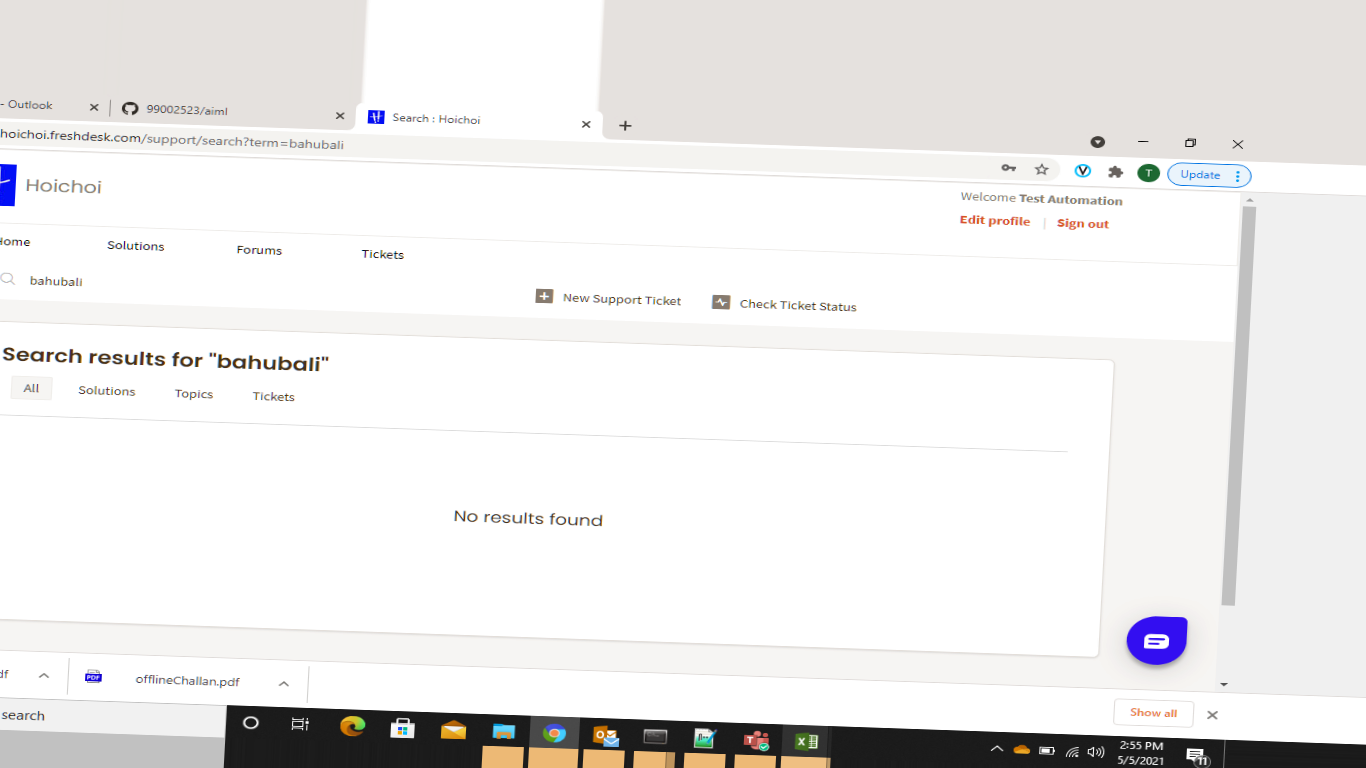noresultsfound: (412, 485, 709, 541)
profileicon: (931, 209, 1042, 238)
